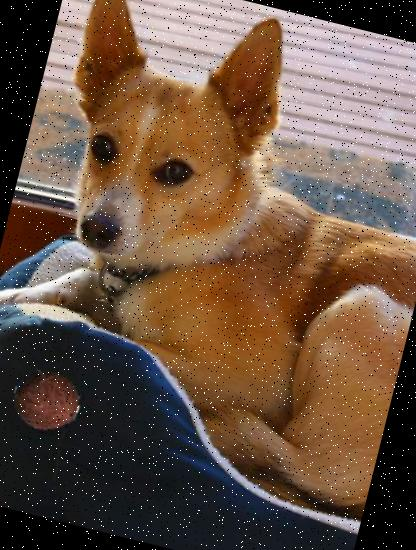Cocos: (6, 360, 88, 442)
